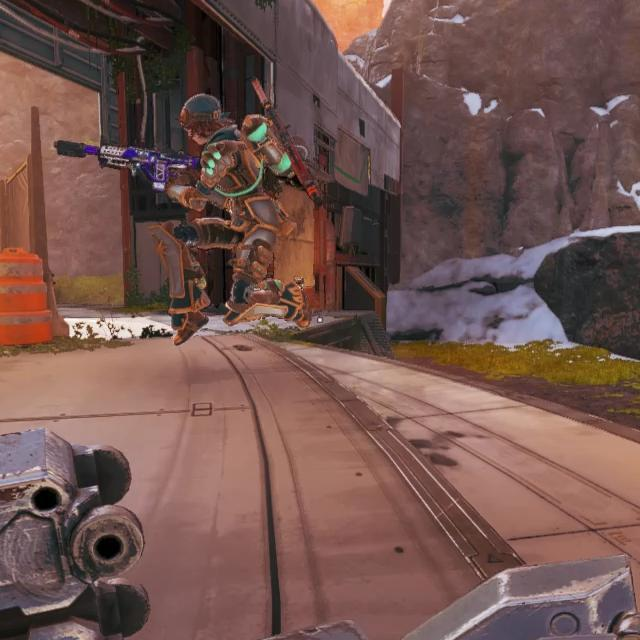avatar: (154, 89, 292, 350)
